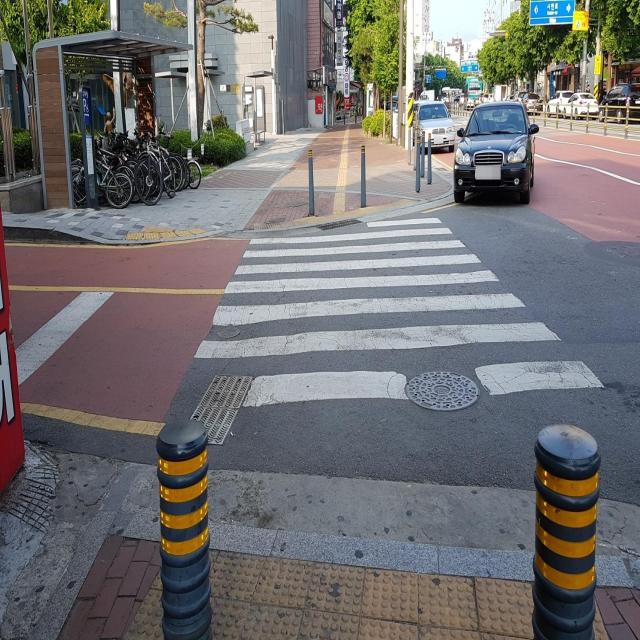횡단보도: (192, 216, 608, 410)
